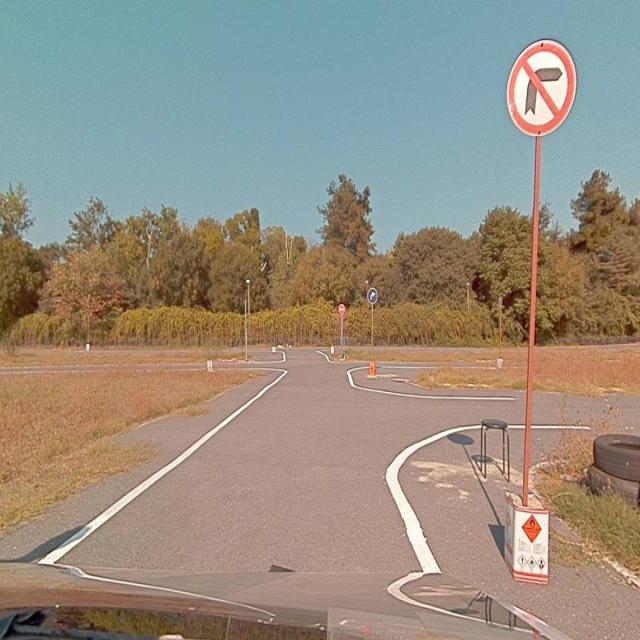girisyok: (339, 304, 345, 314)
sag: (367, 287, 378, 303)
sagadonulmez: (507, 39, 576, 136)
